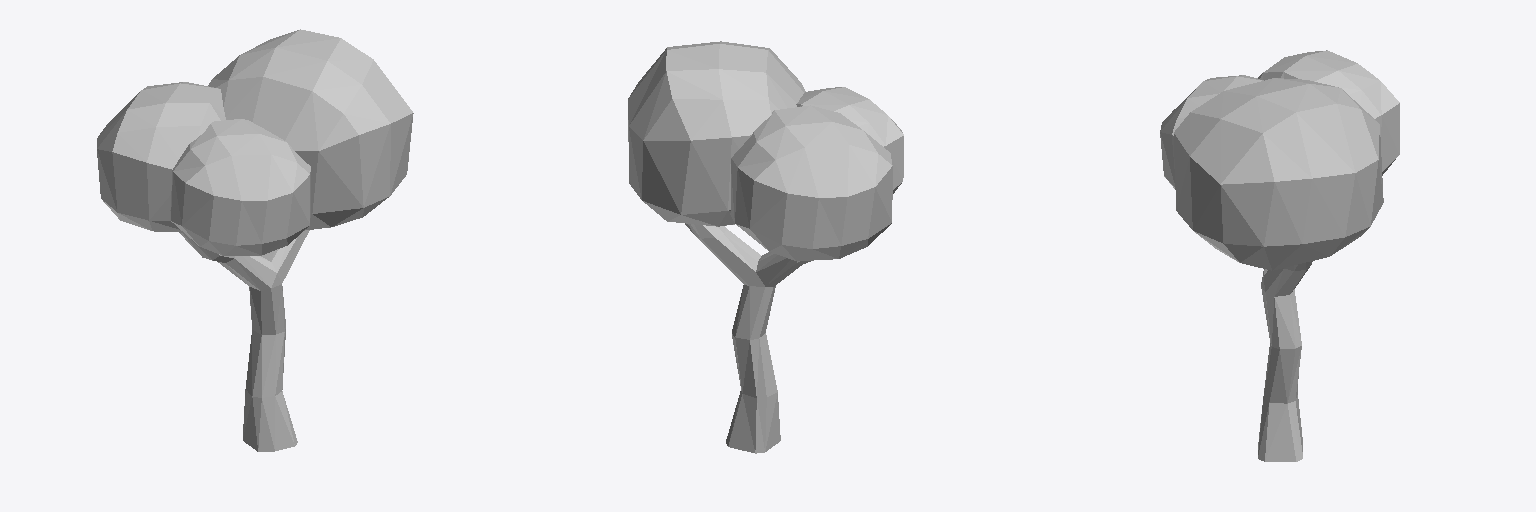
File: TreeV2.obj
3 views of the same model, side by side, from view 1: azimuth 30°, elevation 25°; view 2: azimuth 150°, elevation 25°; view 3: azimuth 270°, elevation 25° (orthographic).
Size of the model in its own units: 12.21 by 16.45 by 9.46.